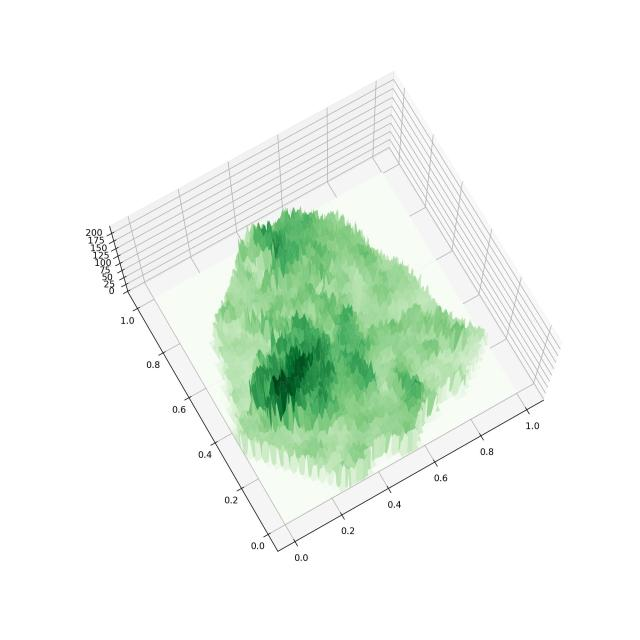spruce: (55, 45, 609, 589)
